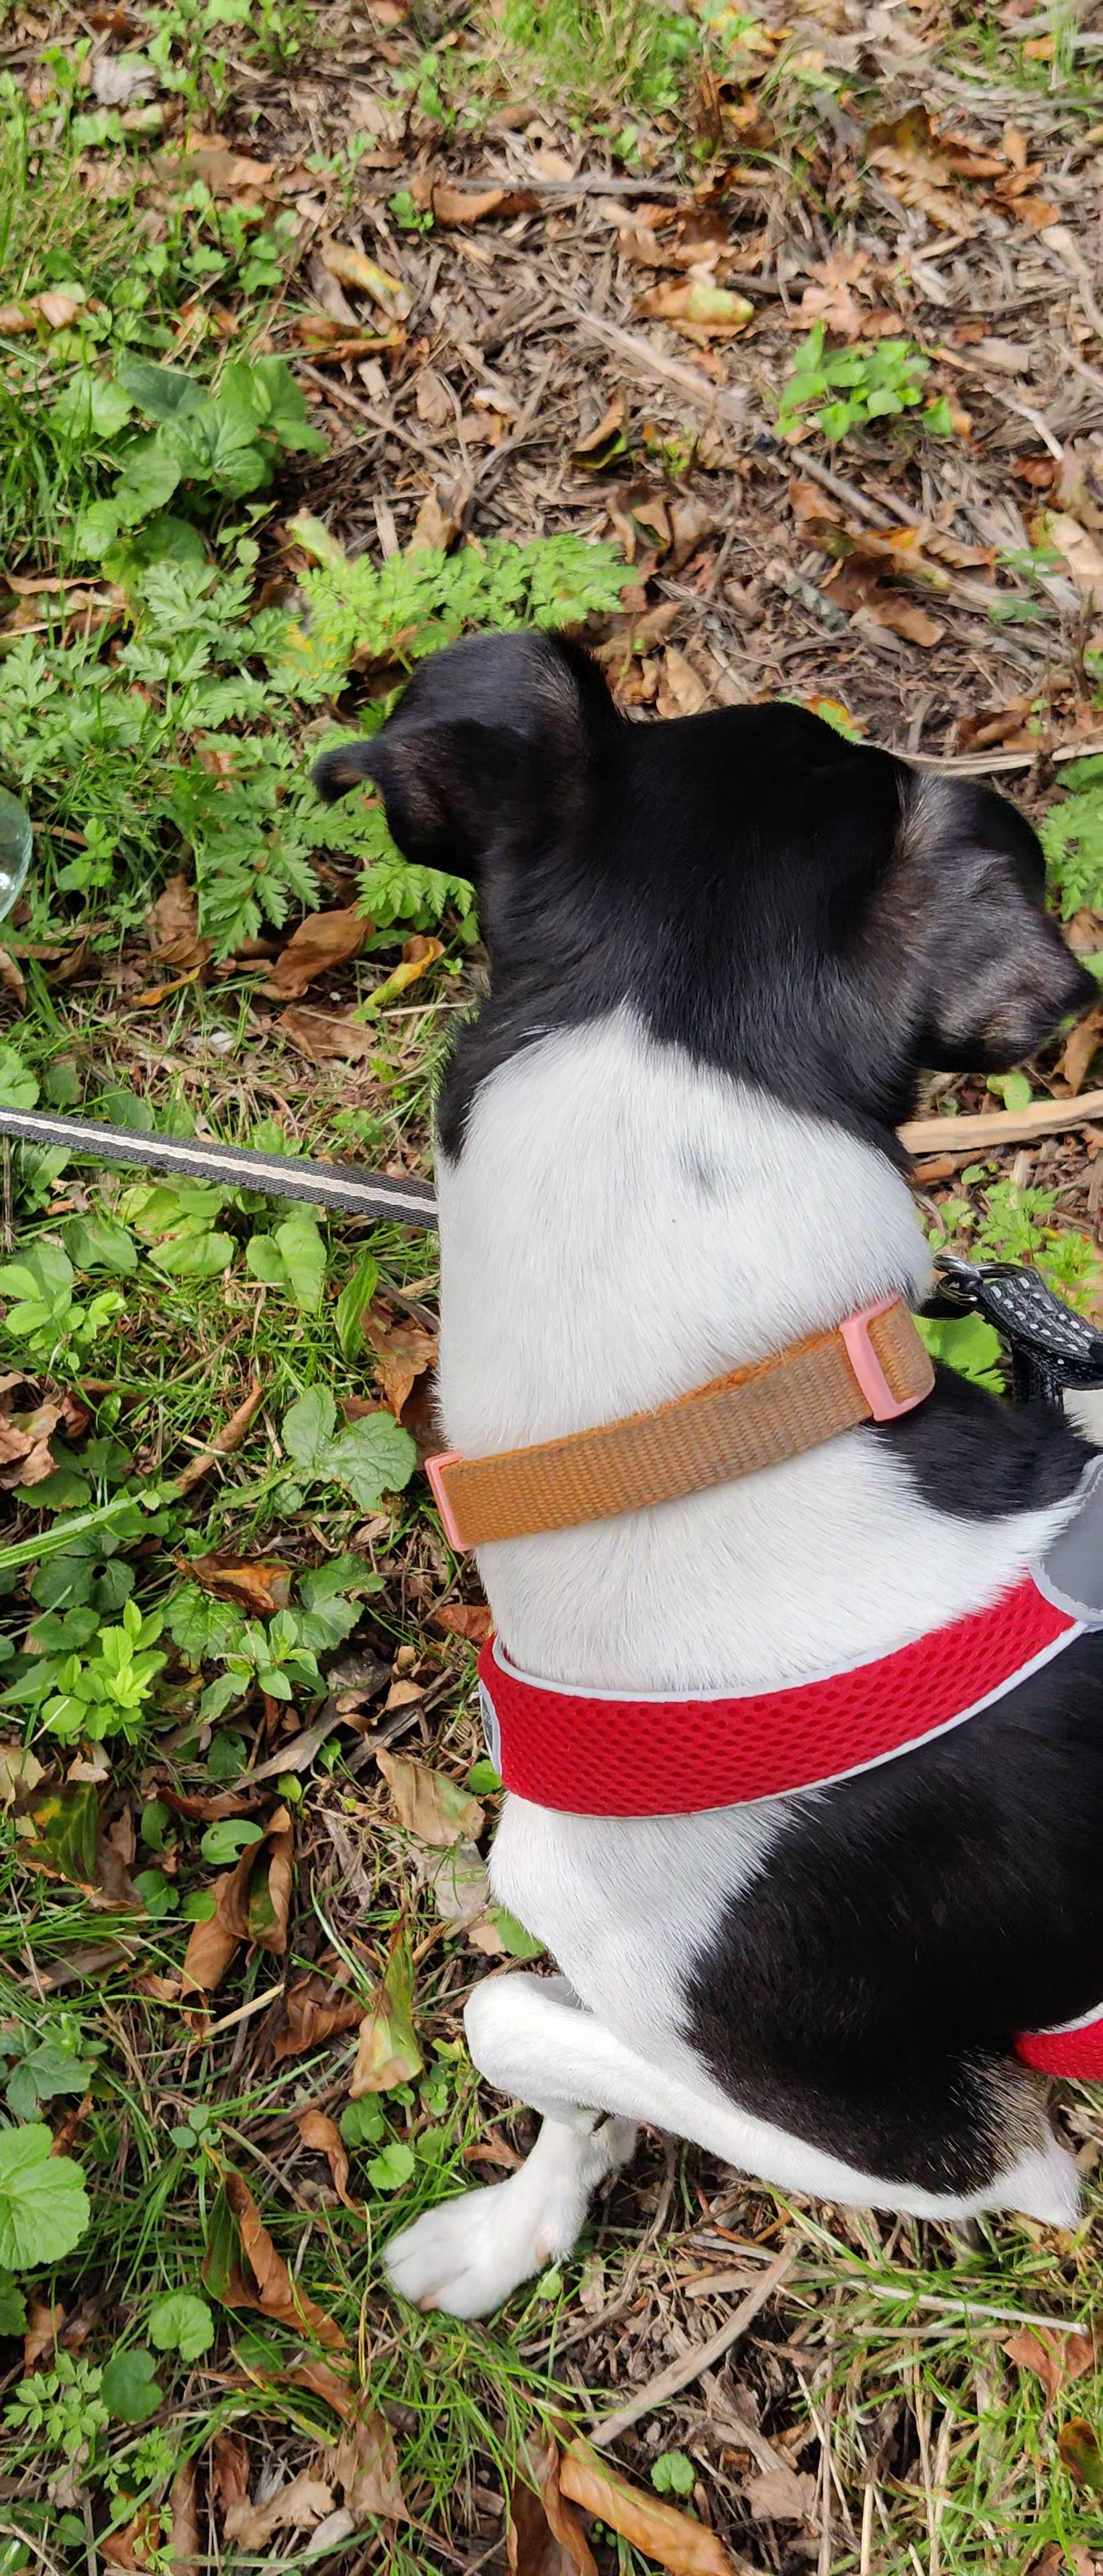Dog: (306, 641, 1103, 2331)
